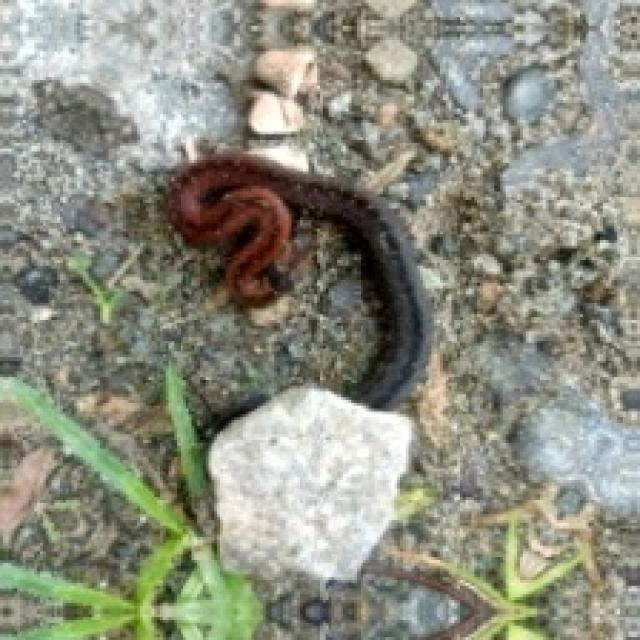reinhardts lined snake: (169, 154, 429, 406), (169, 154, 289, 306)
